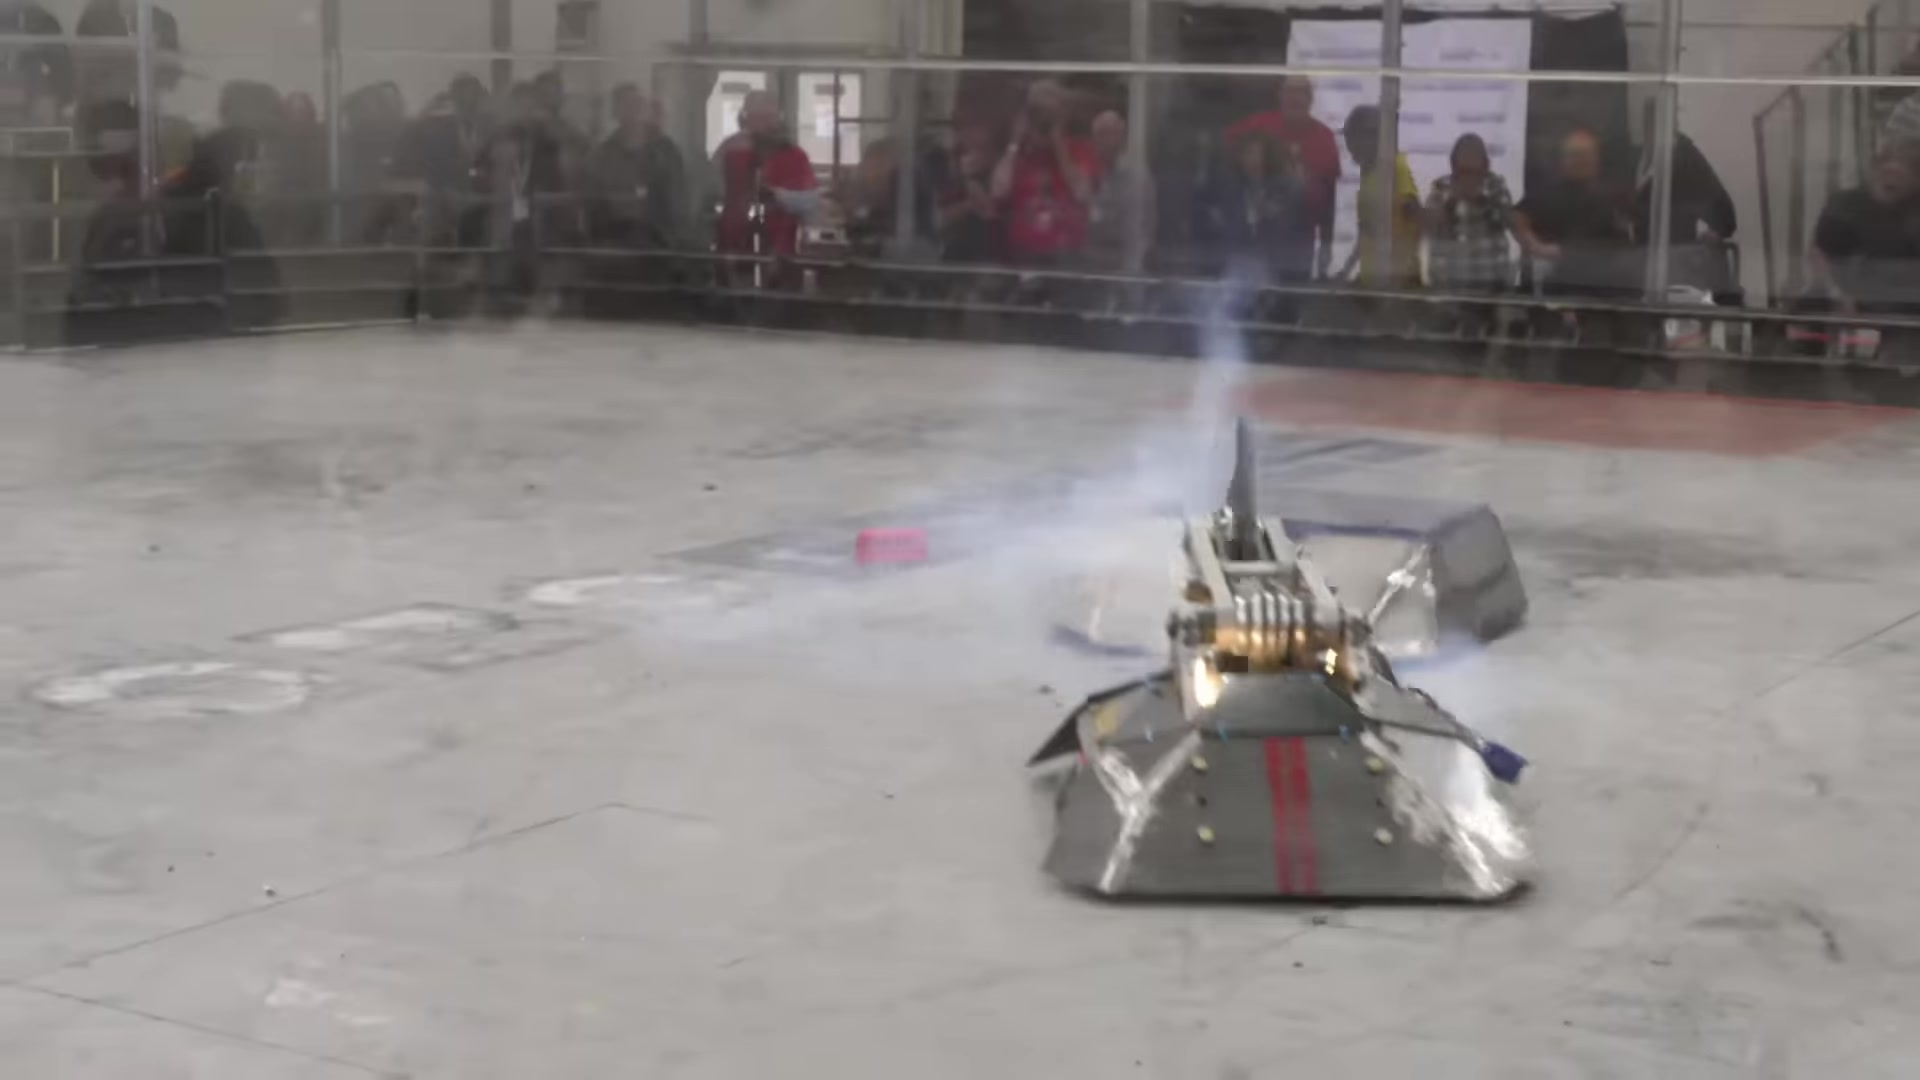combatbot: (1034, 518, 1532, 911), (1058, 495, 1524, 650)
debris: (851, 526, 932, 567)
